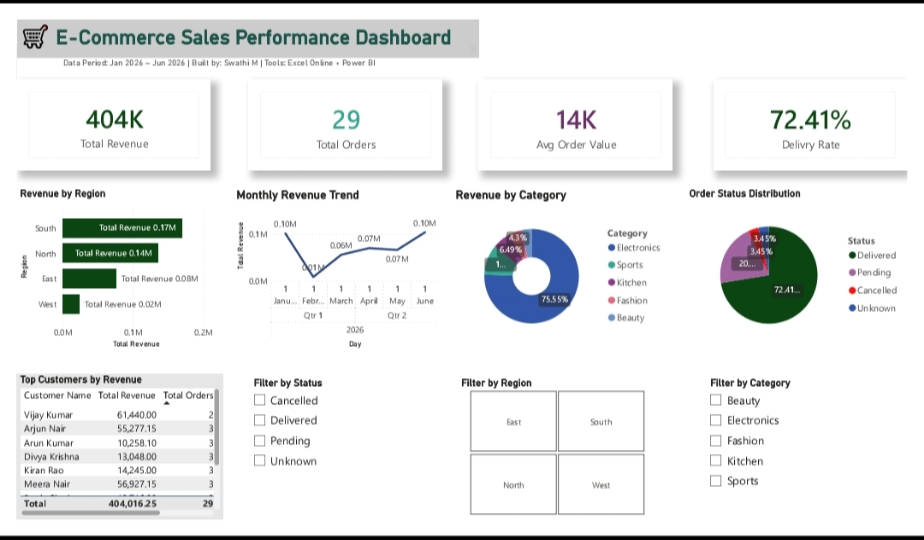

The page's visual inventory and layout, read from the dashboard file:
{"tool":"powerbi","page":{"name":"Sales Dashboard","canvas":[1280,720],"ordinal":0},"visuals":[{"type":"cardVisual","fields":{"Data":["Cleaned.Total Revenue"]},"box":[0,86.4,279.4,131],"z":0},{"type":"cardVisual","fields":{"Data":["Cleaned.Total Orders"]},"box":[332.6,86.4,279.4,131],"z":1000},{"type":"cardVisual","fields":{"Data":["Cleaned.Avg Order Value"]},"box":[663.8,86.4,279.4,131],"z":2000},{"type":"cardVisual","fields":{"Data":["Cleaned.Delivry Rate"]},"box":[1000.8,86.4,279.4,131],"z":3000},{"type":"clusteredBarChart","title":"Revenue by Region","fields":{"Category":["Cleaned.Region"],"Y":["Cleaned.Total Revenue"]},"box":[0,241.9,296.6,236.2],"z":4000},{"type":"lineChart","title":"Monthly Revenue Trend","fields":{"Y":["Cleaned.Total Revenue"],"Category":["Cleaned.Month.Variation.Date Hierarchy.Year","Cleaned.Month.Variation.Date Hierarchy.Quarter","Cleaned.Month.Variation.Date Hierarchy.Month","Cleaned.Month.Variation.Date Hierarchy.Day"]},"box":[311,241.9,296.6,236.2],"z":5000},{"type":"donutChart","title":"Revenue by Category","fields":{"Category":["Cleaned.Category"],"Y":["Cleaned.Total Revenue"]},"box":[626.4,241.9,312.5,236.2],"z":6000},{"type":"pieChart","title":"Order Status Distribution","fields":{"Category":["Cleaned.Status"],"Y":["Cleaned.Total Orders"]},"box":[961.9,241.9,318.2,236.2],"z":7000},{"type":"tableEx","title":"Top Customers by Revenue","fields":{"Values":["Cleaned.Customer Name","Cleaned.Total Revenue","Cleaned.Total Orders","Cleaned.Customer Type"]},"box":[0,509.8,296.6,210.2],"z":8000},{"type":"slicer","fields":{"Values":["Cleaned.Region"]},"box":[626.4,509.8,299.5,210.2],"z":9000},{"type":"slicer","fields":{"Values":["Cleaned.Category"]},"box":[983.5,509.8,296.6,210.2],"z":10000},{"type":"slicer","fields":{"Values":["Cleaned.Status"]},"box":[328.3,509.8,247.7,210.2],"z":11000},{"type":"textbox","title":"🛒 E-Commerce Sales Performance Dashboard","box":[0,0,663.8,54.7],"z":12000},{"type":"textbox","title":"Data Period: Jan 2026 – Jun 2026  |  Built by: Swathi M  |  Tools: Excel Online + Power BI","box":[61.9,54.7,532.8,20.2],"z":13000}]}

Visuals, with their boxes on the page's 1280x720 design canvas (x1, y1, x2, y2). These are canvas units, not pixel positions in the 924x540 screenshot, which may show the page scaled, cropped or inside an application window:
cardVisual - Cleaned.Total Revenue: left=0, top=86, right=279, bottom=217
cardVisual - Cleaned.Total Orders: left=333, top=86, right=612, bottom=217
cardVisual - Cleaned.Avg Order Value: left=664, top=86, right=943, bottom=217
cardVisual - Cleaned.Delivry Rate: left=1001, top=86, right=1280, bottom=217
"Revenue by Region" clusteredBarChart: left=0, top=242, right=297, bottom=478
"Monthly Revenue Trend" lineChart: left=311, top=242, right=608, bottom=478
"Revenue by Category" donutChart: left=626, top=242, right=939, bottom=478
"Order Status Distribution" pieChart: left=962, top=242, right=1280, bottom=478
"Top Customers by Revenue" tableEx: left=0, top=510, right=297, bottom=720
slicer - Cleaned.Region: left=626, top=510, right=926, bottom=720
slicer - Cleaned.Category: left=984, top=510, right=1280, bottom=720
slicer - Cleaned.Status: left=328, top=510, right=576, bottom=720
"🛒 E-Commerce Sales Performance Dashboard" textbox: left=0, top=0, right=664, bottom=55
"Data Period: Jan 2026 – Jun 2026  |  Built by: Swathi M  |  Tools: Excel Online + Power BI" textbox: left=62, top=55, right=595, bottom=75
